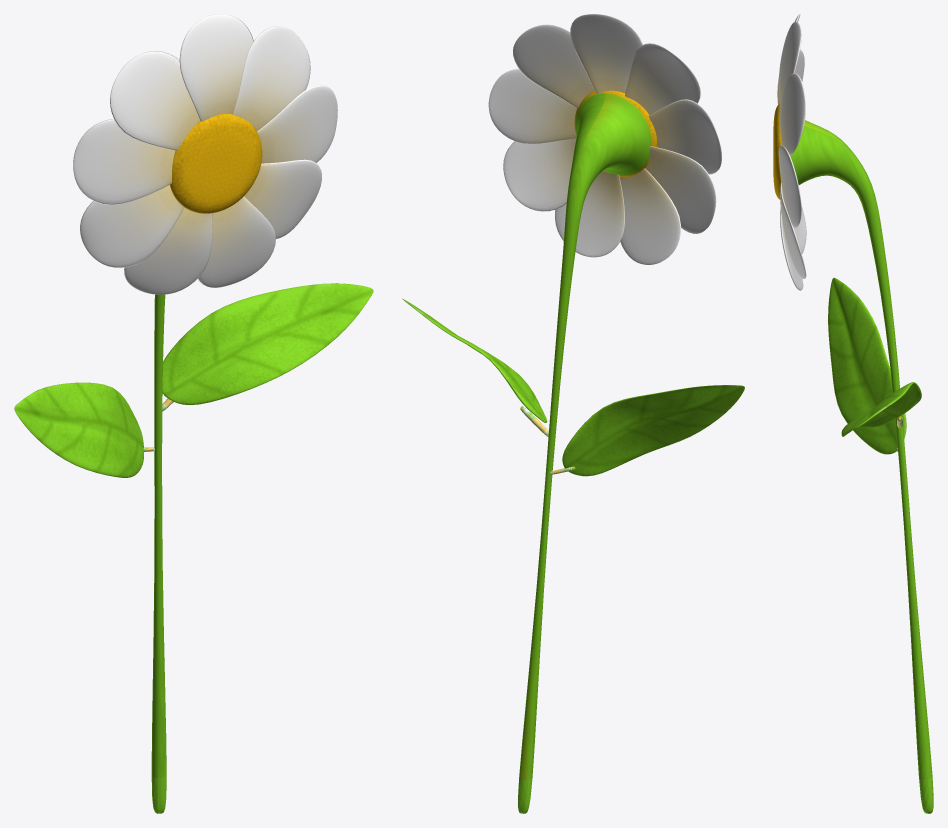
Rendered from sun_flower.fbx.
3 renders of one model, left to right at view 1: azimuth 30°, elevation 25°; view 2: azimuth 150°, elevation 25°; view 3: azimuth 270°, elevation 25°, orthographic. The views are drawn at different scales.
Visible parts, largest first — view 1: Cylinder; view 2: Cylinder; view 3: Cylinder.
Part boxes in pixels (x1,y1,x2,y2): Cylinder: (14, 14, 373, 813); Cylinder: (402, 14, 744, 813); Cylinder: (773, 14, 933, 813).
Bounding box in the file's own units: 1098 × 2402 × 450.
